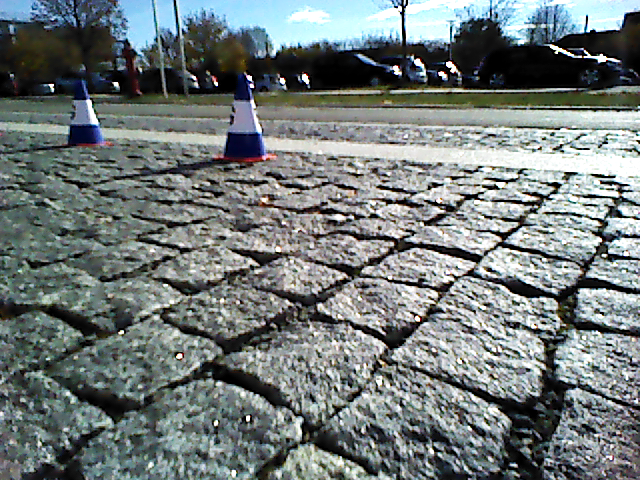bluecone: (227, 75, 265, 157), (68, 81, 102, 144)
